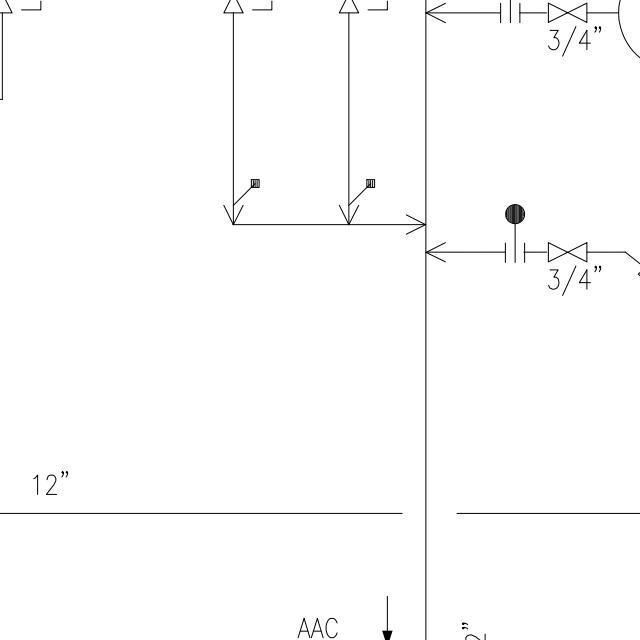GV: (543, 237, 593, 268), (545, 0, 591, 29)
